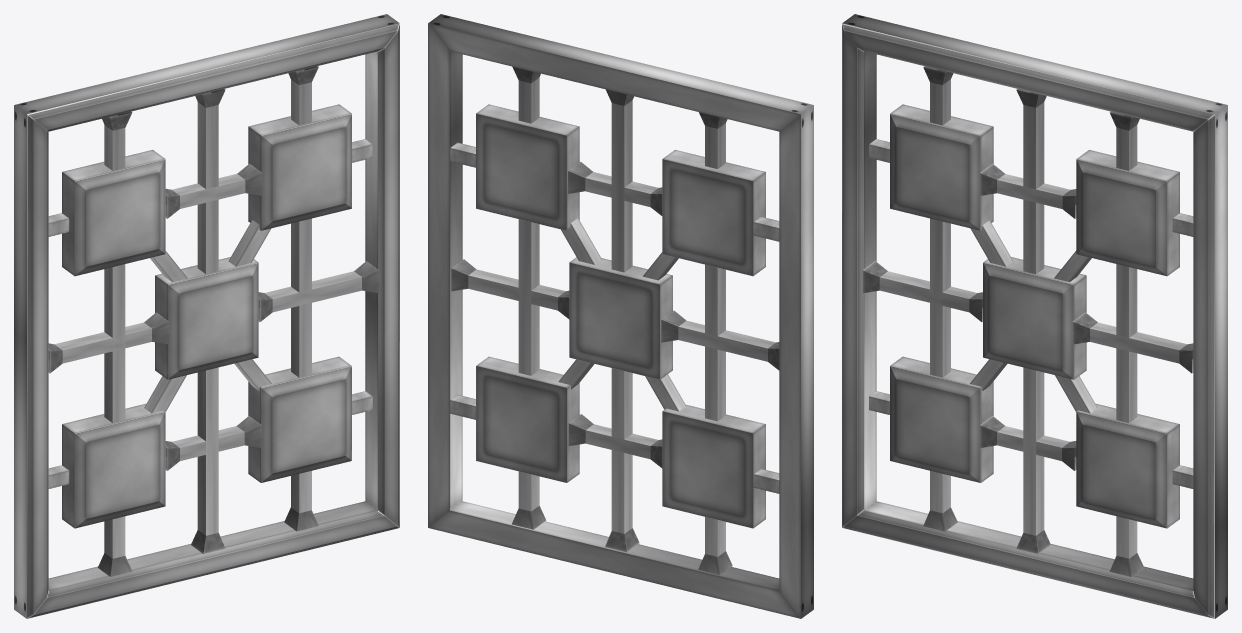
File: LargeBuggyChassis.FBX
3 renders of one model, left to right at view 1: azimuth 30°, elevation 25°; view 2: azimuth 150°, elevation 25°; view 3: azimuth 330°, elevation 25°, orthographic.
Parts seen in each view (by area): view 1: Frame002, TopHardpoint005, TopHardpoint004, TopHardpoint002, TopHardpoint003, TopHardpoint006, Pilar020, Pilar016, Pilar013, Pilar015, Pilar017, Pilar019 (+3 smaller); view 2: Frame002, TopHardpoint005, TopHardpoint004, TopHardpoint002, TopHardpoint003, TopHardpoint006, Pilar020, Pilar013, Pilar016, Pilar017, Pilar015, Pilar018 (+7 smaller); view 3: Frame002, TopHardpoint002, TopHardpoint003, TopHardpoint005, TopHardpoint004, TopHardpoint006, Pilar020, Pilar013, Pilar016, Pilar015, Pilar017, Pilar019 (+3 smaller).
Part boxes in pixels (x1,y1,x2,y2): Frame002: (14, 14, 399, 618); TopHardpoint005: (62, 150, 165, 276); TopHardpoint004: (62, 403, 165, 528); TopHardpoint002: (248, 104, 351, 230); TopHardpoint003: (248, 356, 351, 482); TopHardpoint006: (155, 257, 258, 379); Pilar020: (191, 89, 225, 554); Pilar016: (98, 111, 132, 576); Pilar013: (284, 66, 318, 531); Pilar015: (258, 261, 379, 321); Pilar017: (48, 312, 169, 373); Pilar019: (165, 163, 262, 218); Frame002: (428, 14, 813, 618); TopHardpoint005: (662, 150, 765, 276); TopHardpoint004: (662, 404, 765, 528); TopHardpoint002: (476, 104, 579, 230); TopHardpoint003: (476, 356, 579, 482); TopHardpoint006: (569, 257, 672, 379); Pilar020: (605, 89, 639, 552); Pilar013: (512, 66, 546, 529); Pilar016: (698, 112, 732, 574); Pilar017: (661, 310, 779, 370); Pilar015: (451, 259, 569, 319); Pilar018: (568, 414, 662, 468); Frame002: (842, 14, 1227, 618); TopHardpoint002: (1076, 150, 1179, 276); TopHardpoint003: (1076, 403, 1179, 528); TopHardpoint005: (890, 104, 993, 230); TopHardpoint004: (890, 356, 993, 482); TopHardpoint006: (983, 257, 1086, 379); Pilar020: (1016, 89, 1050, 553); Pilar013: (1109, 111, 1144, 576); Pilar016: (923, 66, 957, 531); Pilar015: (1072, 312, 1193, 373); Pilar017: (862, 261, 982, 321); Pilar019: (980, 163, 1076, 218).
Size of the model in its own units: 0.8454 by 1.09 by 0.06.
